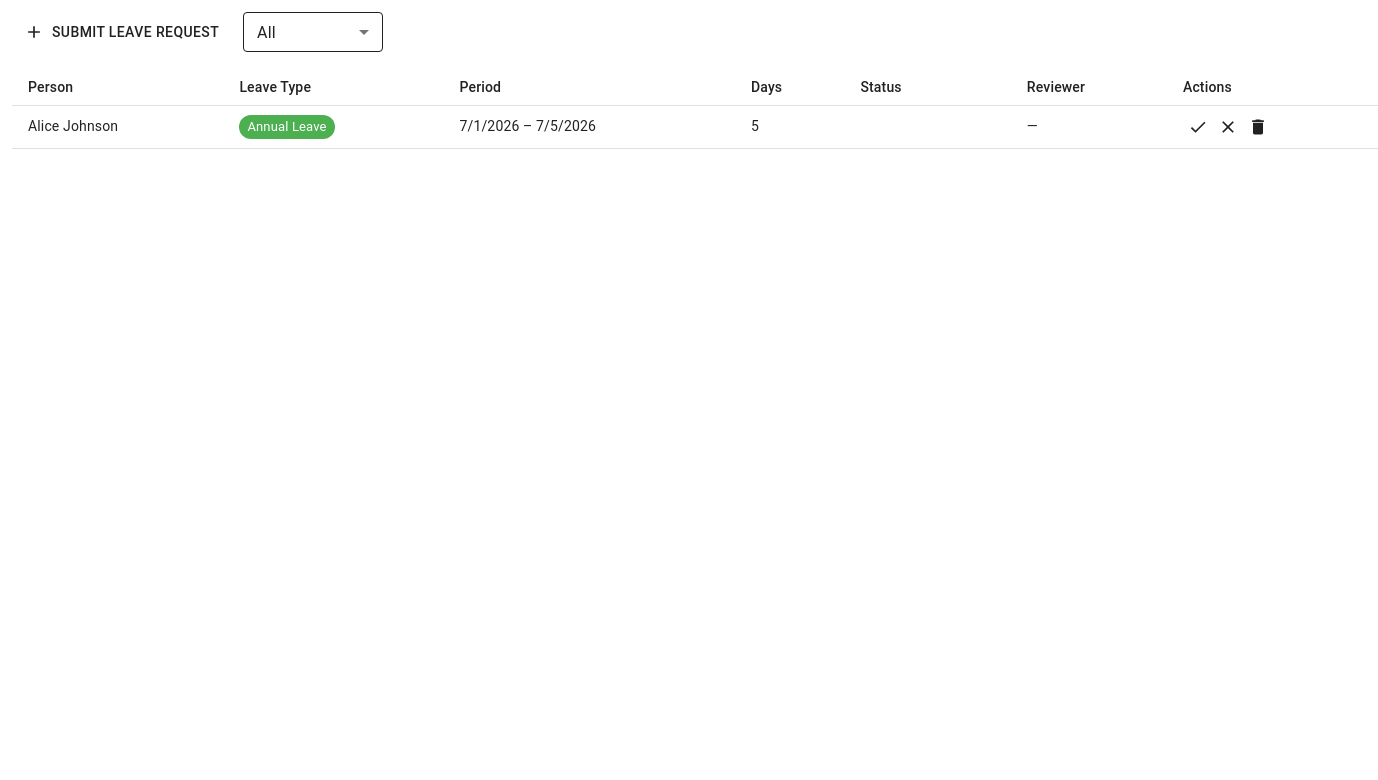
it: LeaveRequestsTab › shows error in create form when action returns error
This screenshot has width=1378, height=780.
Click the button "Submit Leave Request".
click(124, 32)  # box left=12, top=12, right=235, bottom=52
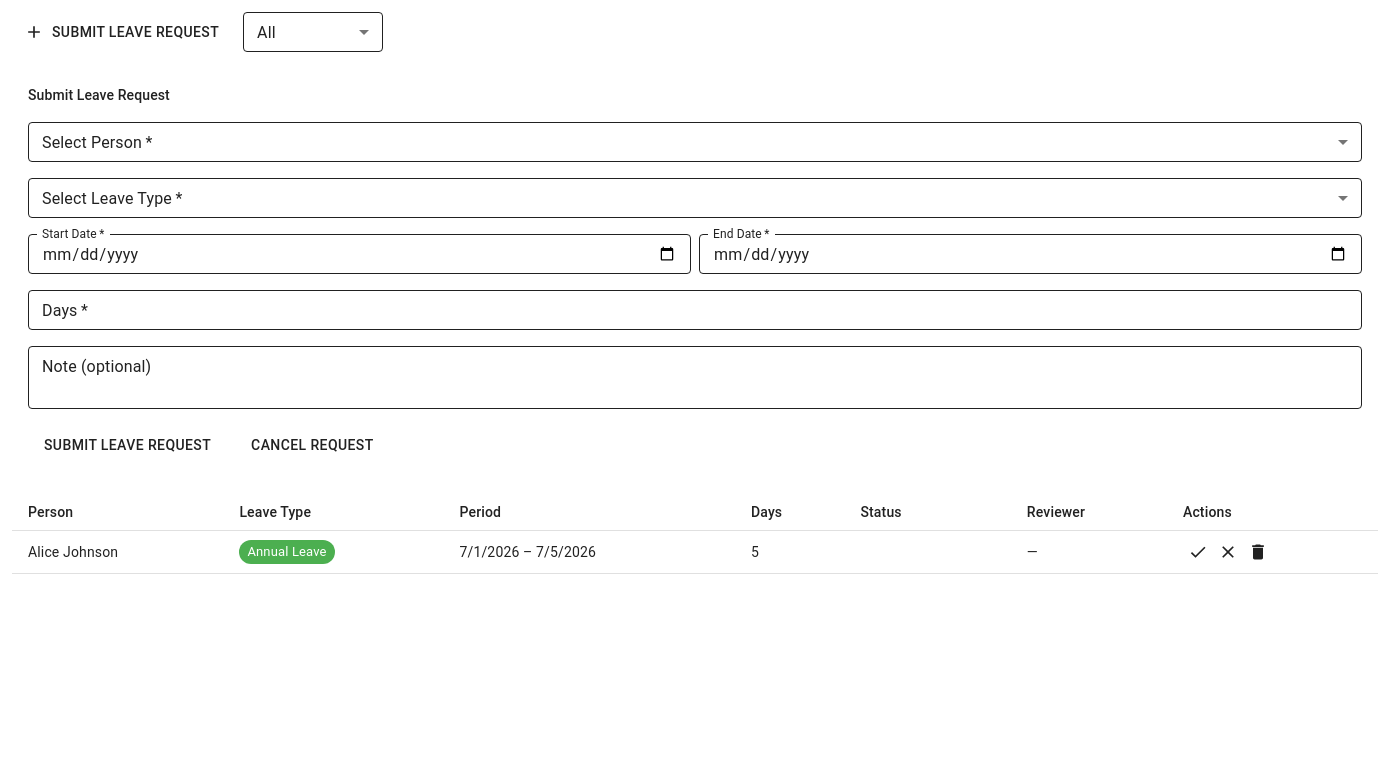
Submit the form, box left=12, top=68, right=1377, bottom=482
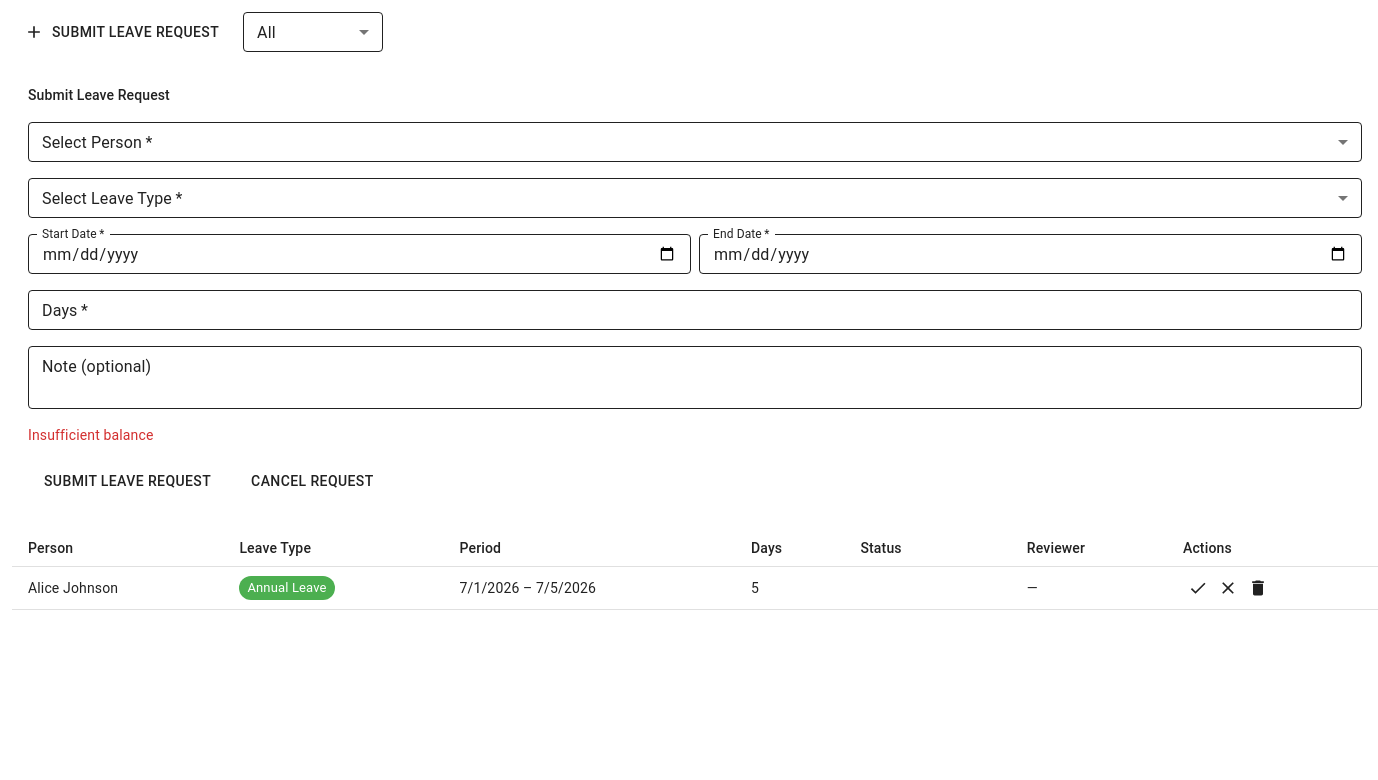
Expected: the text "Insufficient balance" is shown, left=28, top=428, right=154, bottom=444
